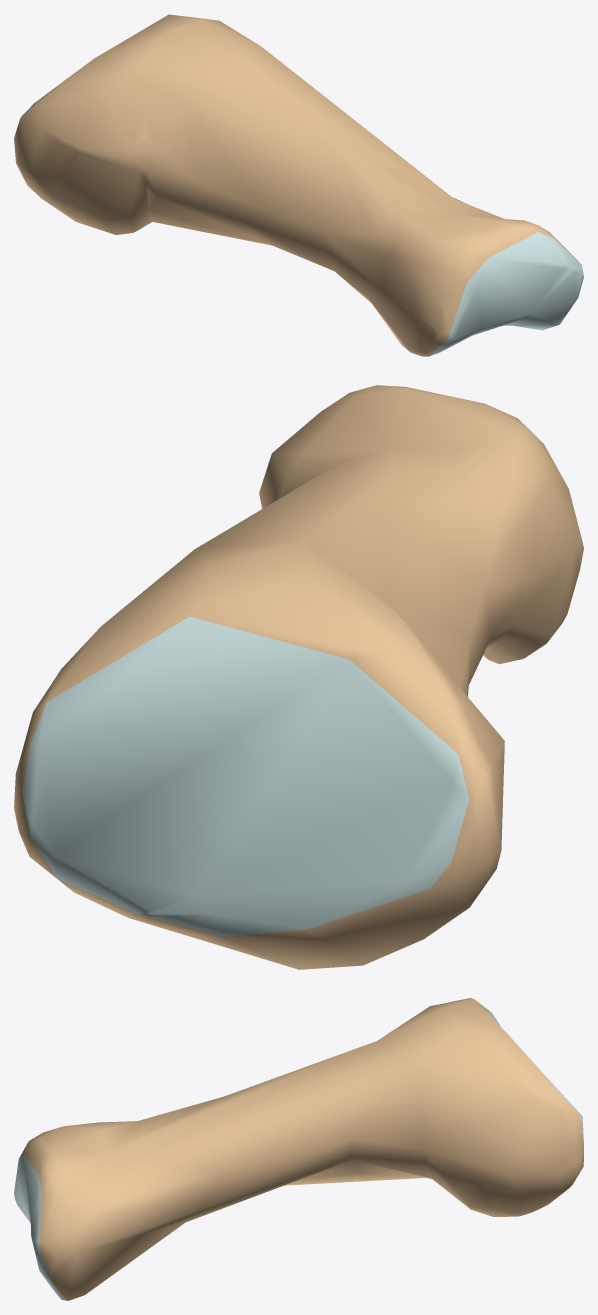
Rendered from Phalanx_proximal_5th_finger_foot_left.glb.
3 views of the same model, one above another, from view 1: azimuth 30°, elevation 25°; view 2: azimuth 150°, elevation 25°; view 3: azimuth 270°, elevation 25° (orthographic). The views are drawn at different scales.
Parts seen in each view (by area): view 1: Proximal_phalanx_of_5th_finger_of_foot.l_Generated_Mesh_From; view 2: Proximal_phalanx_of_5th_finger_of_foot.l_Generated_Mesh_From; view 3: Proximal_phalanx_of_5th_finger_of_foot.l_Generated_Mesh_From.
Part boxes in pixels (bbox=[...]): Proximal_phalanx_of_5th_finger_of_foot.l_Generated_Mesh_From: bbox=[14, 14, 583, 356]; Proximal_phalanx_of_5th_finger_of_foot.l_Generated_Mesh_From: bbox=[14, 385, 583, 969]; Proximal_phalanx_of_5th_finger_of_foot.l_Generated_Mesh_From: bbox=[14, 998, 583, 1300].
Bounding box in the file's own units: 0.0183 × 0.0104 × 0.0268.
